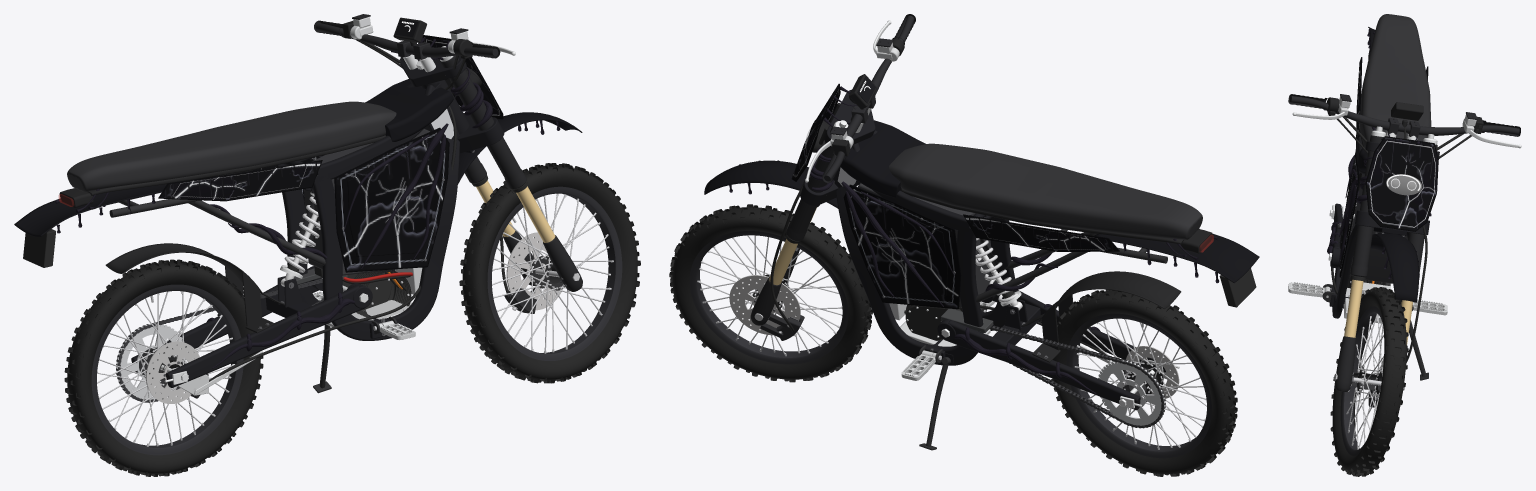
Rendered from surron-light-bee-x-symbiote.glb.
3 views of the same model, side by side, from view 1: azimuth 30°, elevation 25°; view 2: azimuth 150°, elevation 25°; view 3: azimuth 270°, elevation 25° (orthographic). The views are drawn at different scales.
Parts seen in each view (by area): view 1: Seat, Tire_R, Tire_F, Frame_Main, SidePanel_Inner_R, Swingarm_Arms, SidePanel_R, Rim_F, Rim_R, RearCover_R, Spokes_F, Spokes_R (+28 smaller); view 2: Seat, Tire_F, Tire_R, Frame_Main, SidePanel_Inner_L, Swingarm_Arms, Rim_F, Rim_R, SidePanel_L, TankCover, RearCover_L, RearFender (+22 smaller); view 3: Seat, Tire_F, HeadlightShroud, FrontFender, Spokes_F, Rim_F, Handlebar, Fork_Upper_R, Frame_Main, Fork_Lug_R, Battery_Pack, Fork_Stanchion_R (+16 smaller).
Part boxes in pixels (x1,y1,x2,y2): Seat: (67,101,396,191); Tire_R: (64,259,263,476); Tire_F: (459,163,640,383); Frame_Main: (275,82,459,340); SidePanel_Inner_R: (347,141,439,256); Swingarm_Arms: (131,266,372,387); SidePanel_R: (334,127,449,272); Rim_F: (487,186,622,360); Rim_R: (91,284,243,455); RearCover_R: (158,160,322,201); Spokes_F: (492,194,612,352); Spokes_R: (97,291,233,446); Seat: (889,143,1202,239); Tire_F: (669,204,873,382); Tire_R: (1050,289,1237,476); Frame_Main: (834,130,1016,365); SidePanel_Inner_L: (854,196,947,296); Swingarm_Arms: (937,280,1170,410); Rim_F: (689,231,848,364); Rim_R: (1066,313,1211,458); SidePanel_L: (843,184,961,309); TankCover: (840,120,925,197); RearCover_L: (963,214,1119,251); RearFender: (1094,234,1259,282); Seat: (1359,14,1431,147); Tire_F: (1330,287,1408,476); HeadlightShroud: (1365,136,1438,231); FrontFender: (1370,232,1419,302); Spokes_F: (1346,315,1383,448); Rim_F: (1340,306,1382,455); Handlebar: (1289,96,1519,135); Fork_Upper_R: (1350,135,1383,277); Frame_Main: (1329,136,1408,318); Fork_Lug_R: (1335,336,1355,391); Battery_Pack: (1350,174,1407,283); Fork_Stanchion_R: (1344,279,1363,337).
Size of the model in its own units: 1.97 by 1.19 by 0.7598.
44 materials, 3 textured.
